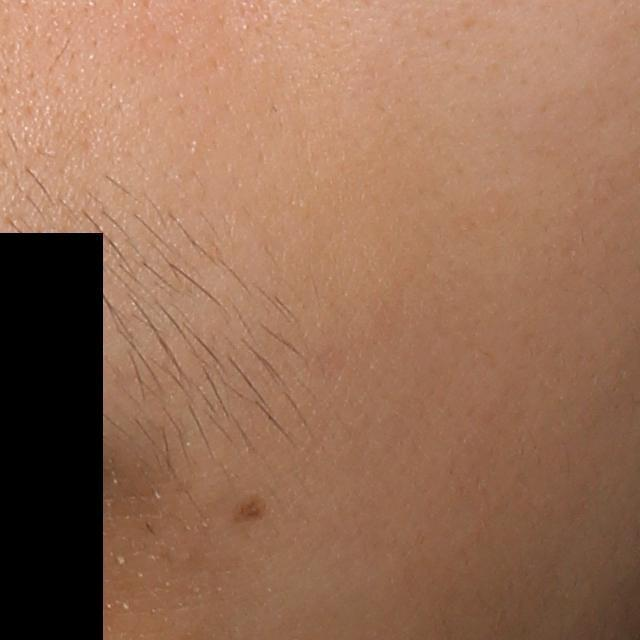nevus: (232, 492, 267, 523)
